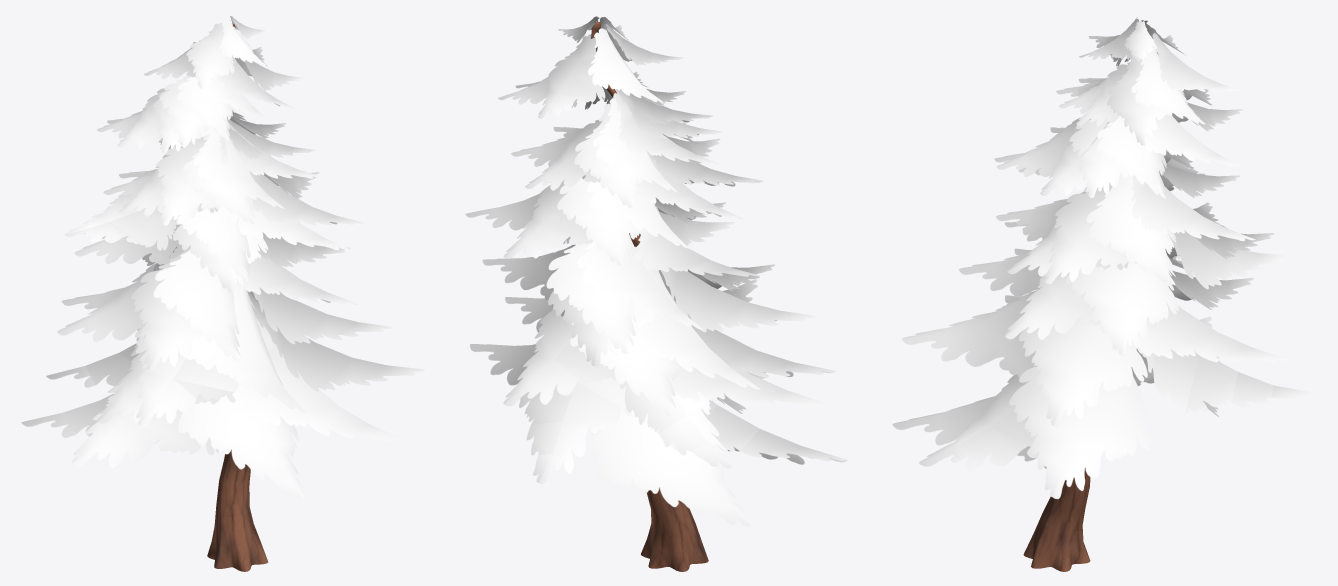
File: pine-5.glb
3 views of the same model, side by side, from view 1: azimuth 30°, elevation 25°; view 2: azimuth 150°, elevation 25°; view 3: azimuth 270°, elevation 25° (orthographic). The views are drawn at different scales.
Visible parts, largest first — view 1: tree_032; view 2: tree_032; view 3: tree_032.
Part boxes in pixels (x1,y1,x2,y2): tree_032: [21, 16, 424, 571]; tree_032: [465, 16, 847, 571]; tree_032: [892, 17, 1315, 571].
Bounding box in the file's own units: 6.42 × 8.72 × 6.22.
2 materials, 2 textured.
